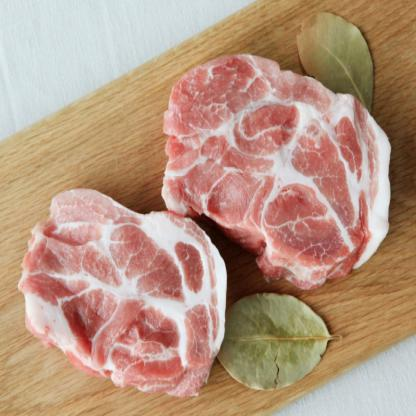pork: (160, 50, 406, 267), (23, 181, 227, 400)
